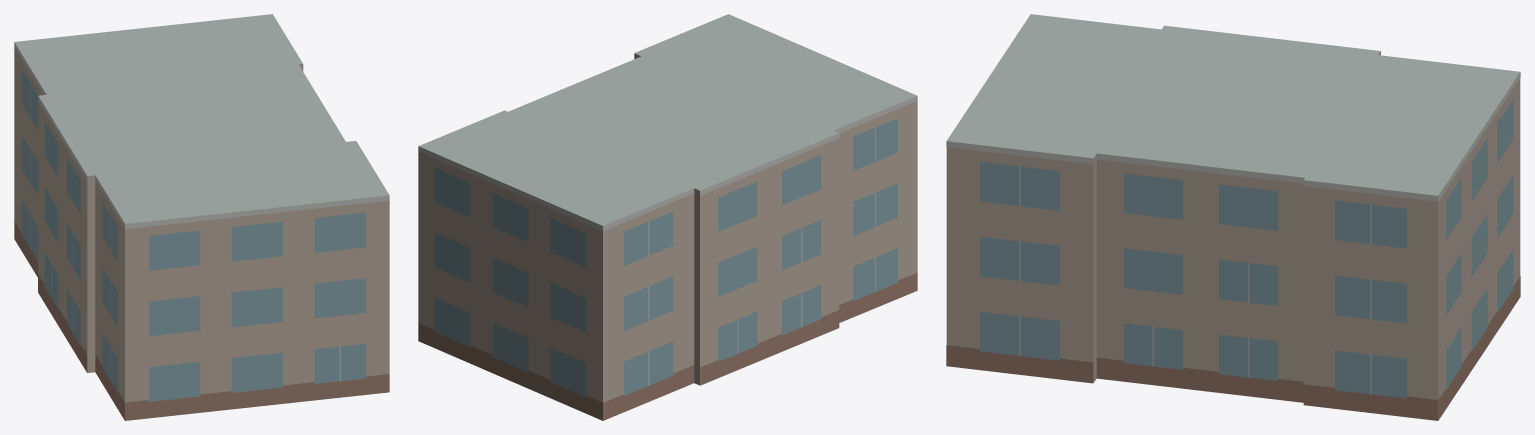
Rendered from survey-upis-32821540.glb.
3 views of the same model, side by side, from view 1: azimuth 30°, elevation 25°; view 2: azimuth 150°, elevation 25°; view 3: azimuth 270°, elevation 25° (orthographic). The views are drawn at different scales.
Visible parts, largest first — view 1: survey-upis-32821540.tmp; view 2: survey-upis-32821540.tmp; view 3: survey-upis-32821540.tmp.
Boxes of the visible parts, x1,y1,x2,y2 form: survey-upis-32821540.tmp: [14, 14, 389, 420]; survey-upis-32821540.tmp: [418, 14, 917, 420]; survey-upis-32821540.tmp: [946, 14, 1520, 420].
Bounding box in the file's own units: 15.86 × 9.15 × 21.16.
